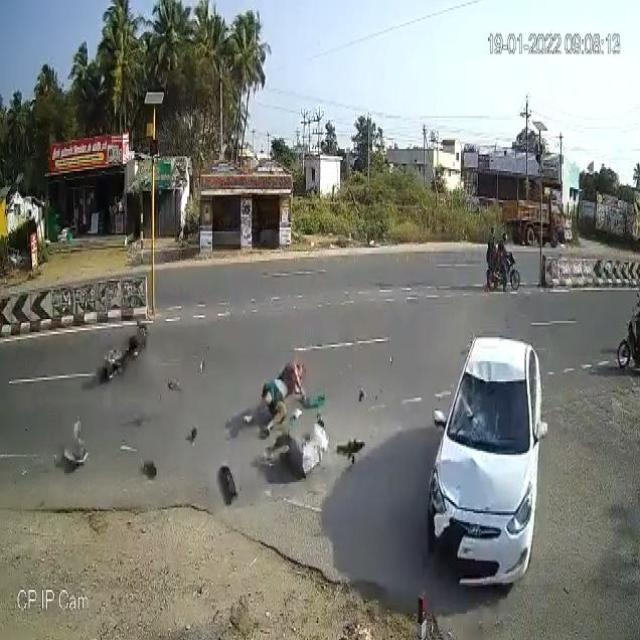accident: (428, 337, 546, 585), (251, 348, 335, 509), (93, 322, 163, 376)
